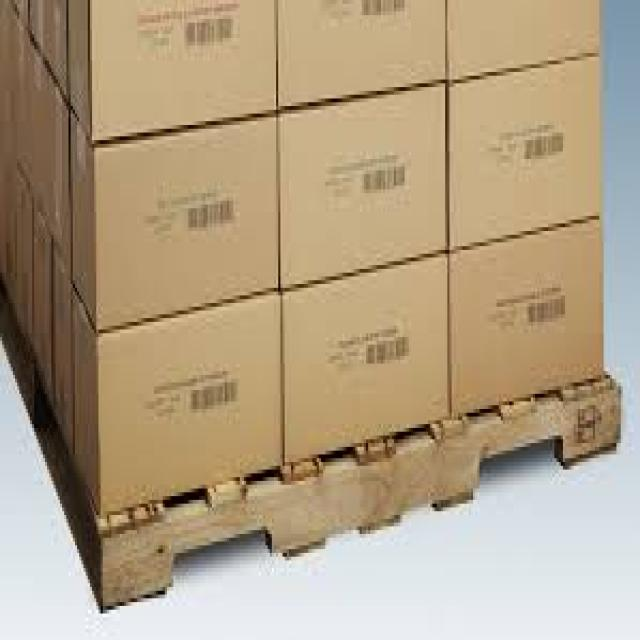cardboard: (69, 280, 283, 515), (69, 114, 279, 333), (274, 79, 447, 288), (279, 250, 450, 458), (64, 0, 274, 144), (448, 216, 602, 409), (446, 53, 600, 242), (276, 0, 445, 106), (13, 19, 68, 265), (50, 246, 99, 508), (443, 0, 597, 68), (13, 0, 90, 129), (30, 208, 49, 379), (9, 163, 30, 310)
